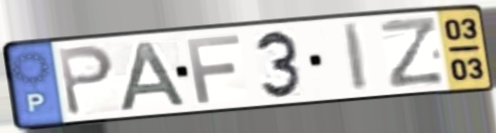3: (254, 28, 302, 101)
A: (117, 39, 192, 113)
F: (184, 32, 244, 106)
I: (340, 20, 371, 94)
P: (54, 42, 117, 118)
Z: (377, 15, 448, 92)
